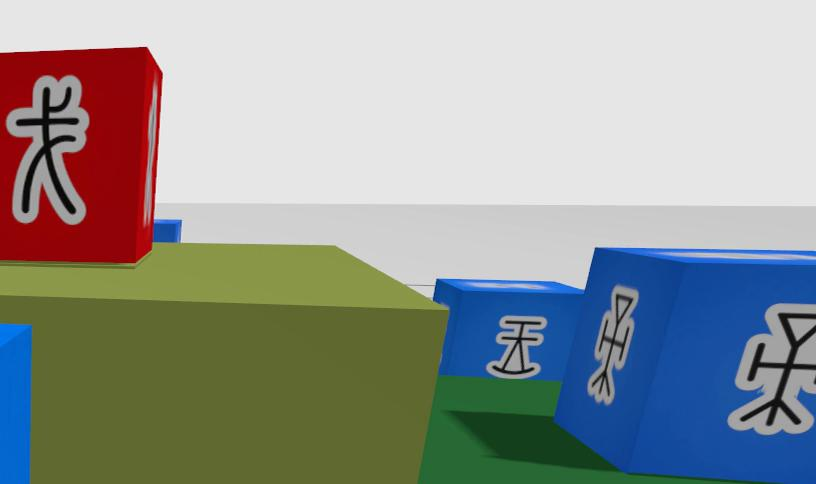KFS_FAKE: (0, 47, 162, 264), (7, 75, 89, 223)
KFS_REAL: (434, 279, 581, 381), (727, 304, 815, 435), (587, 286, 638, 404), (0, 325, 31, 484), (485, 315, 546, 378), (656, 251, 815, 260), (467, 282, 547, 288), (608, 336, 613, 342)
